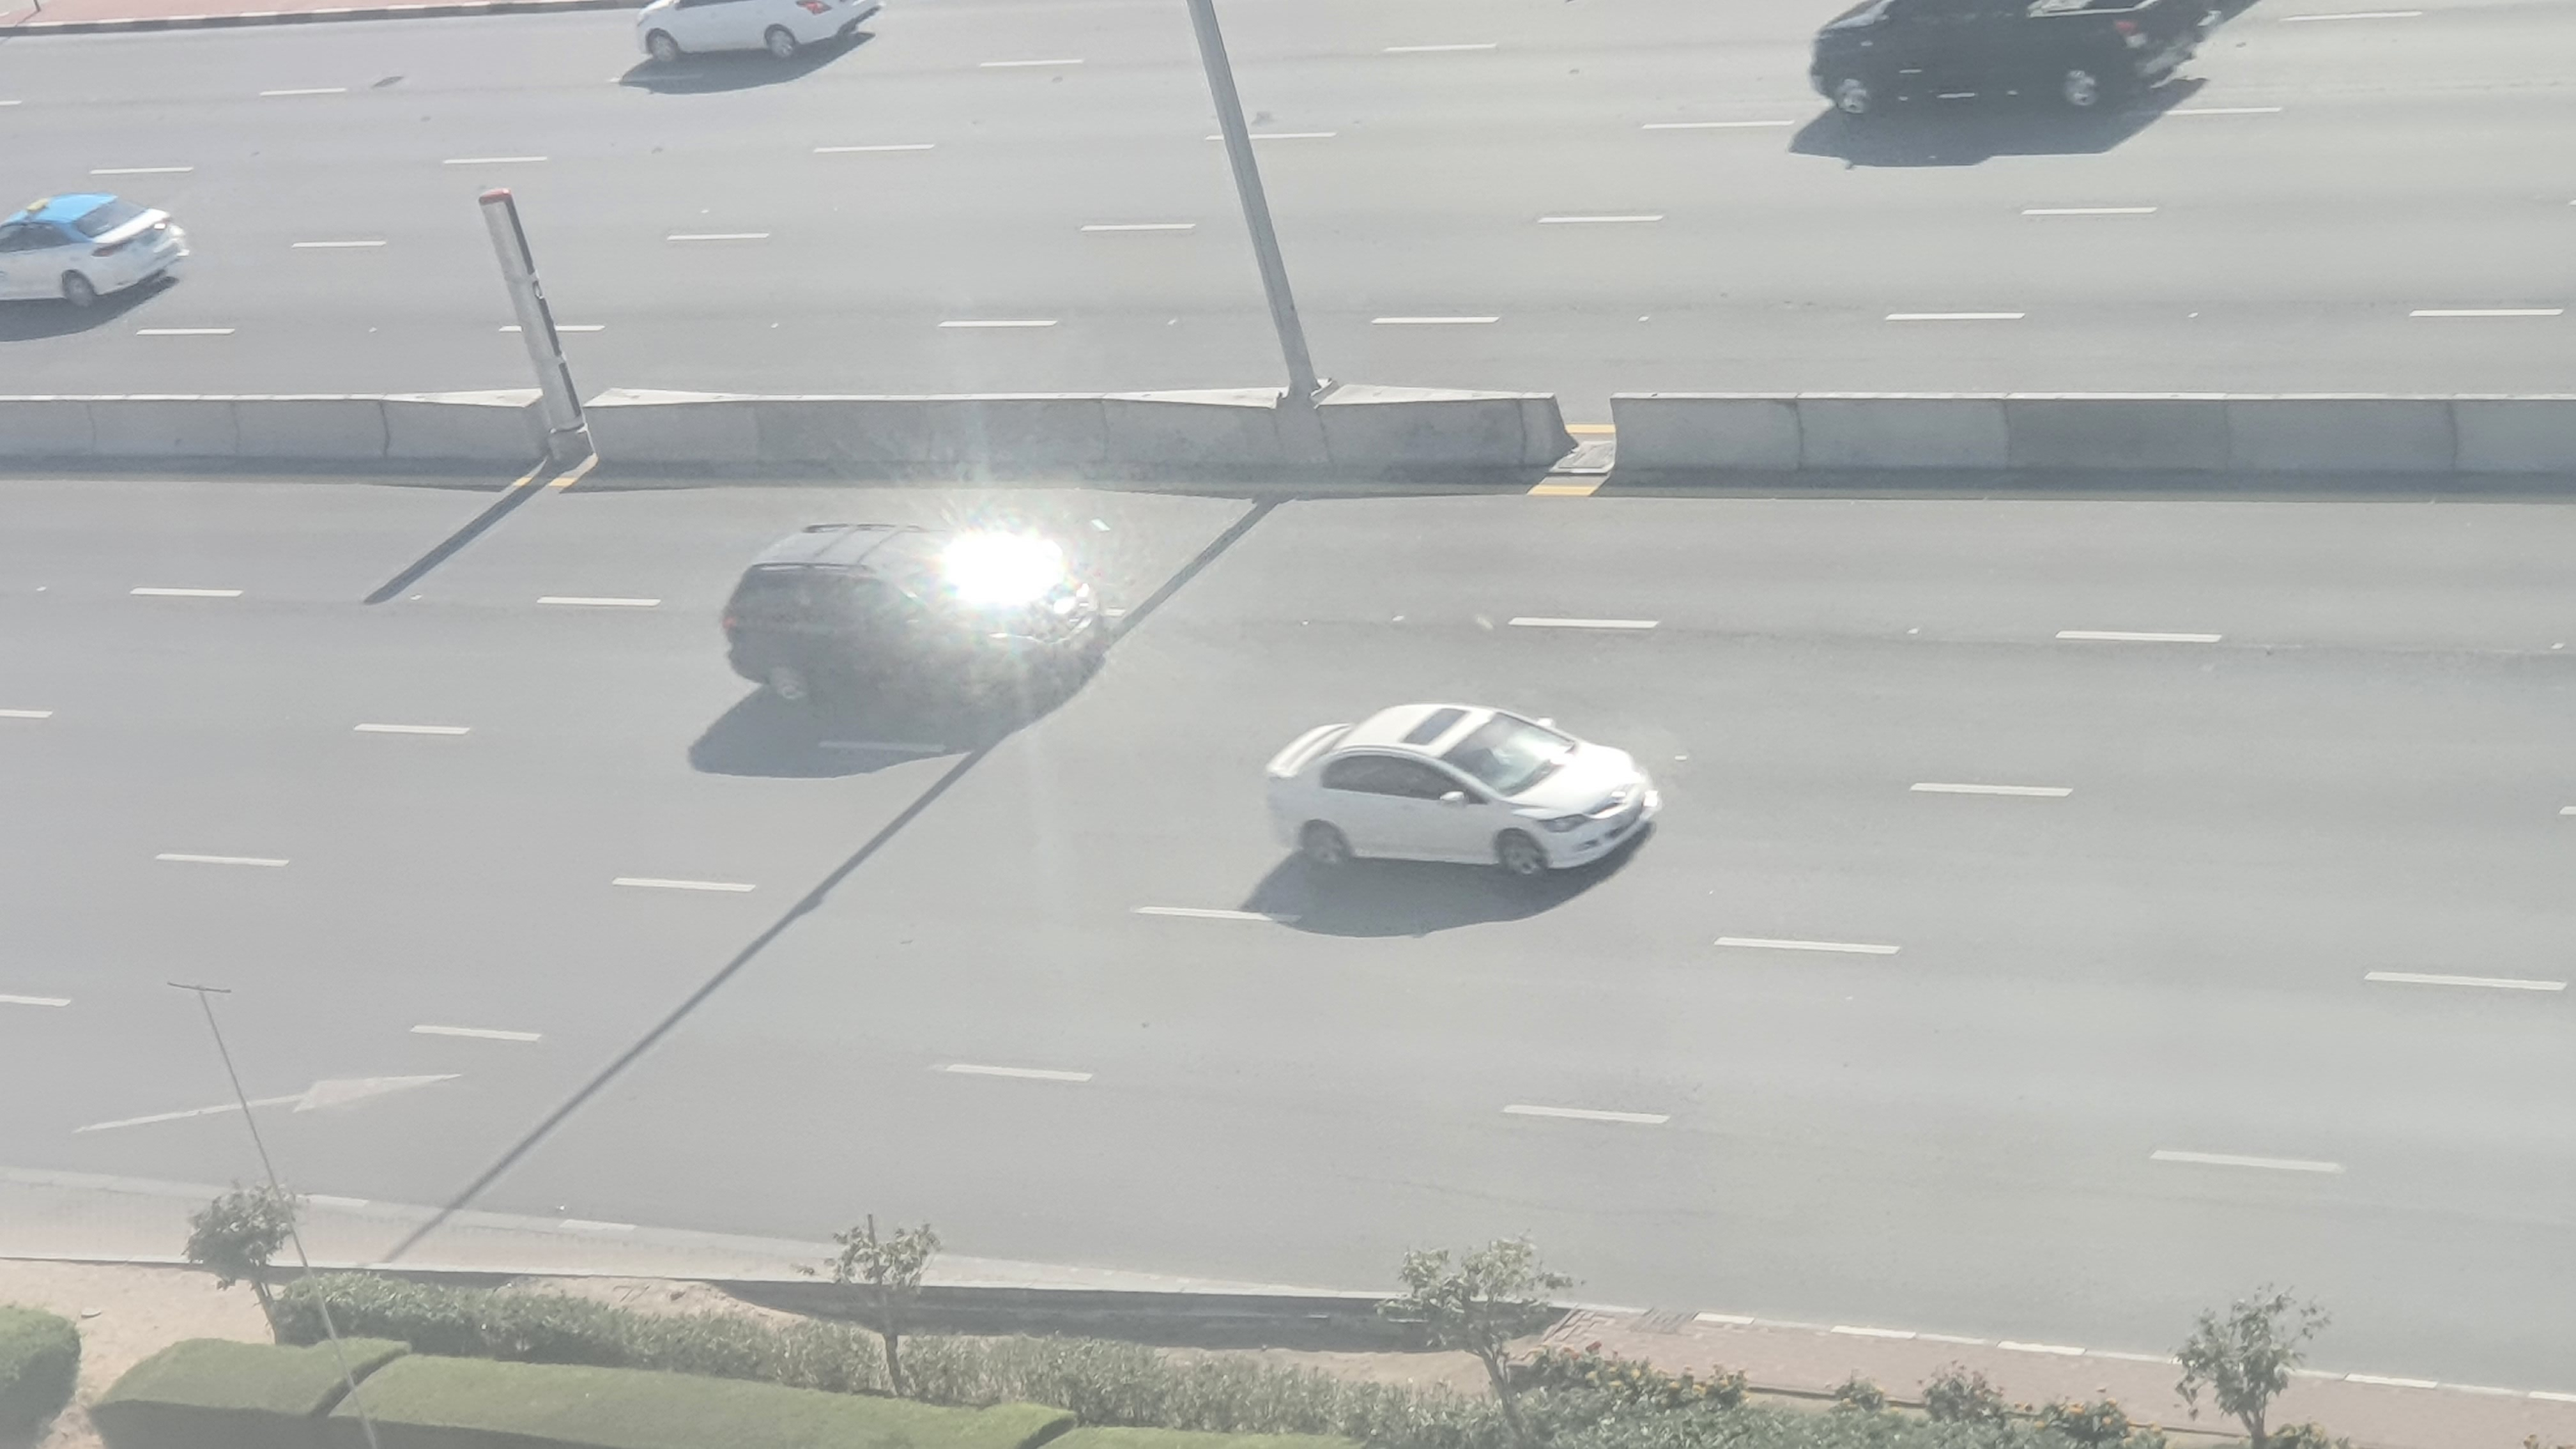NotSunroof: (727, 518, 1109, 731)
Sunroof: (1267, 704, 1668, 897)
